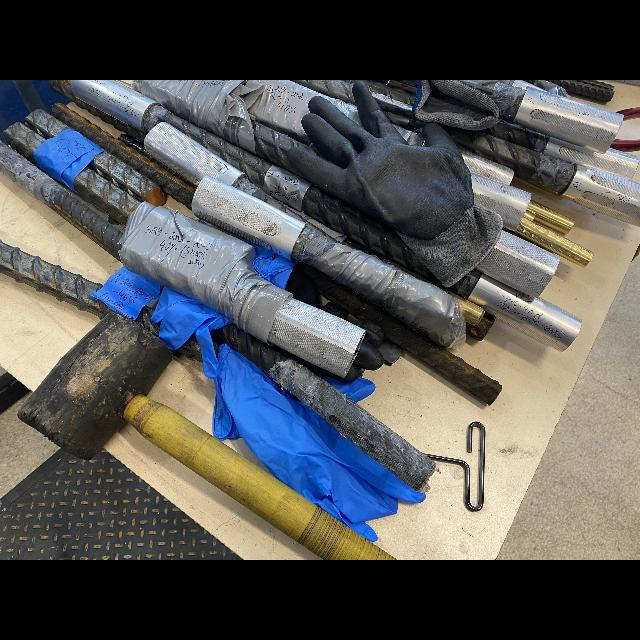Aluminium: (192, 176, 305, 256), (467, 274, 581, 351), (513, 80, 623, 153), (268, 299, 365, 377), (144, 122, 245, 186), (475, 230, 560, 297), (563, 162, 640, 226), (70, 80, 156, 130), (544, 137, 638, 179), (471, 172, 531, 230), (461, 150, 514, 185)
Brass: (513, 217, 594, 267), (526, 200, 575, 234), (445, 290, 483, 325), (515, 177, 562, 199), (523, 212, 535, 220)
Ferrous Metal: (216, 325, 438, 491), (302, 266, 501, 405), (0, 449, 242, 560), (51, 103, 195, 208), (0, 142, 123, 262), (302, 185, 440, 285), (145, 105, 272, 187), (234, 178, 369, 250), (0, 240, 110, 318), (443, 125, 573, 191), (51, 80, 144, 141), (424, 421, 485, 511), (118, 133, 198, 188), (90, 152, 165, 206), (73, 167, 142, 224), (252, 121, 317, 172), (458, 80, 524, 120), (479, 120, 550, 152), (293, 80, 362, 104), (4, 122, 44, 163), (292, 229, 336, 264), (362, 80, 418, 104), (25, 109, 70, 138), (549, 80, 614, 100), (0, 372, 28, 415), (449, 269, 483, 299), (466, 313, 495, 341), (136, 305, 162, 335), (179, 332, 201, 361)
